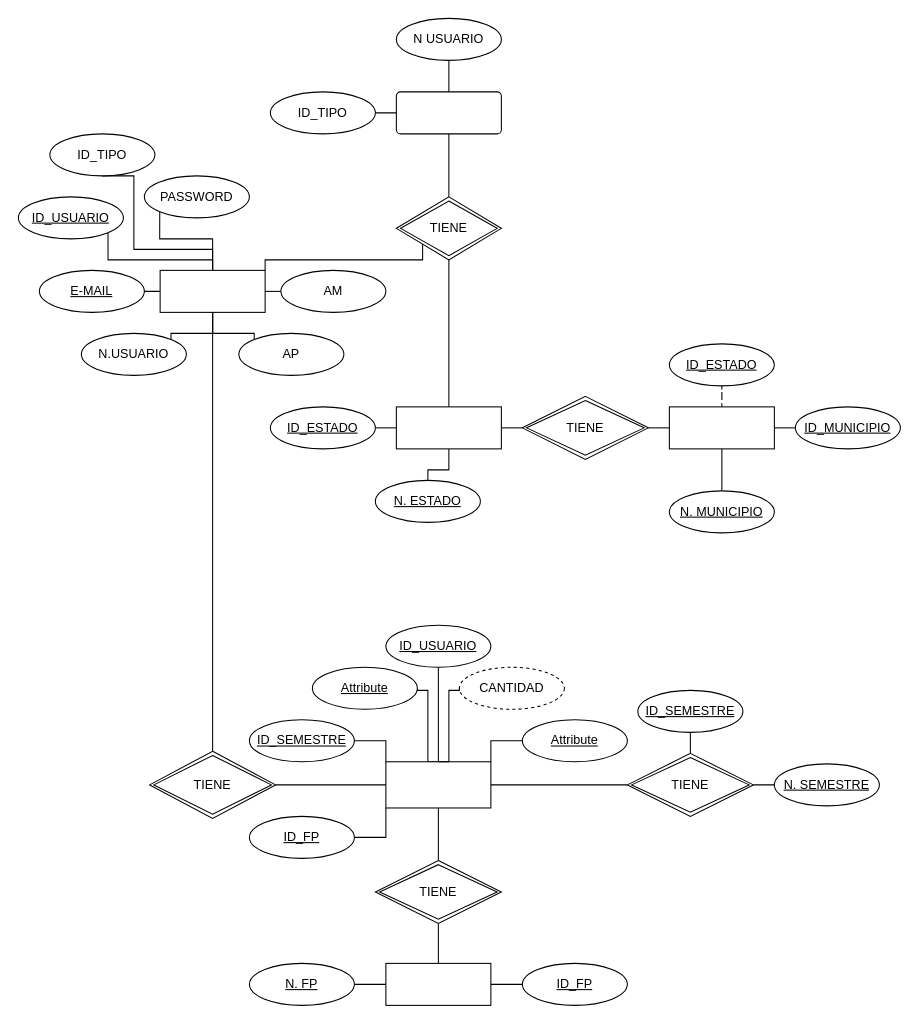
Image size: 919x1024. Some labels were removed from this diagram. Here are the shapes that lost their labels. From the top down, the centre of each, then its label:
At point 448,112: "USER".
At point 212,290: "Usuario".
At point 448,427: "ESTADO".
At point 721,427: "MUNICIPIO".
At point 438,784: "COLEGIATURA".
At point 438,983: "F. PAGO".
